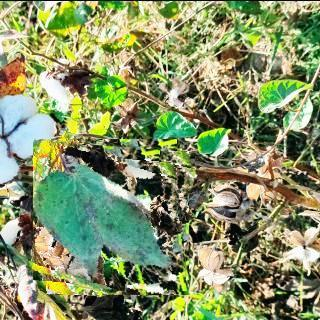leaf spot: (33, 136, 191, 294)
